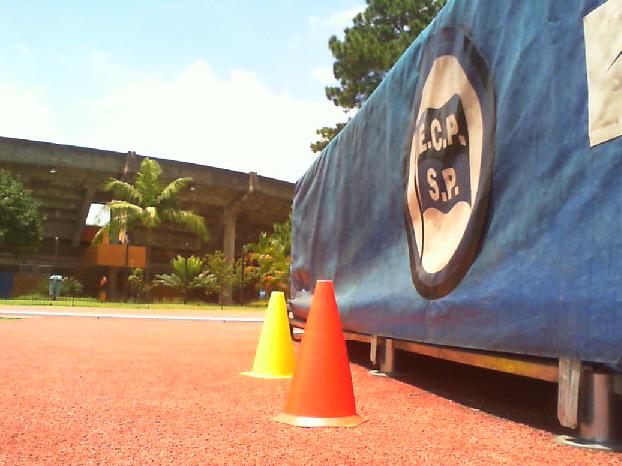0 cone: (269, 281, 374, 429), (240, 290, 291, 381)
